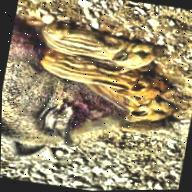boar: (0, 46, 190, 174), (42, 46, 186, 103), (49, 13, 169, 77), (81, 83, 187, 133)
